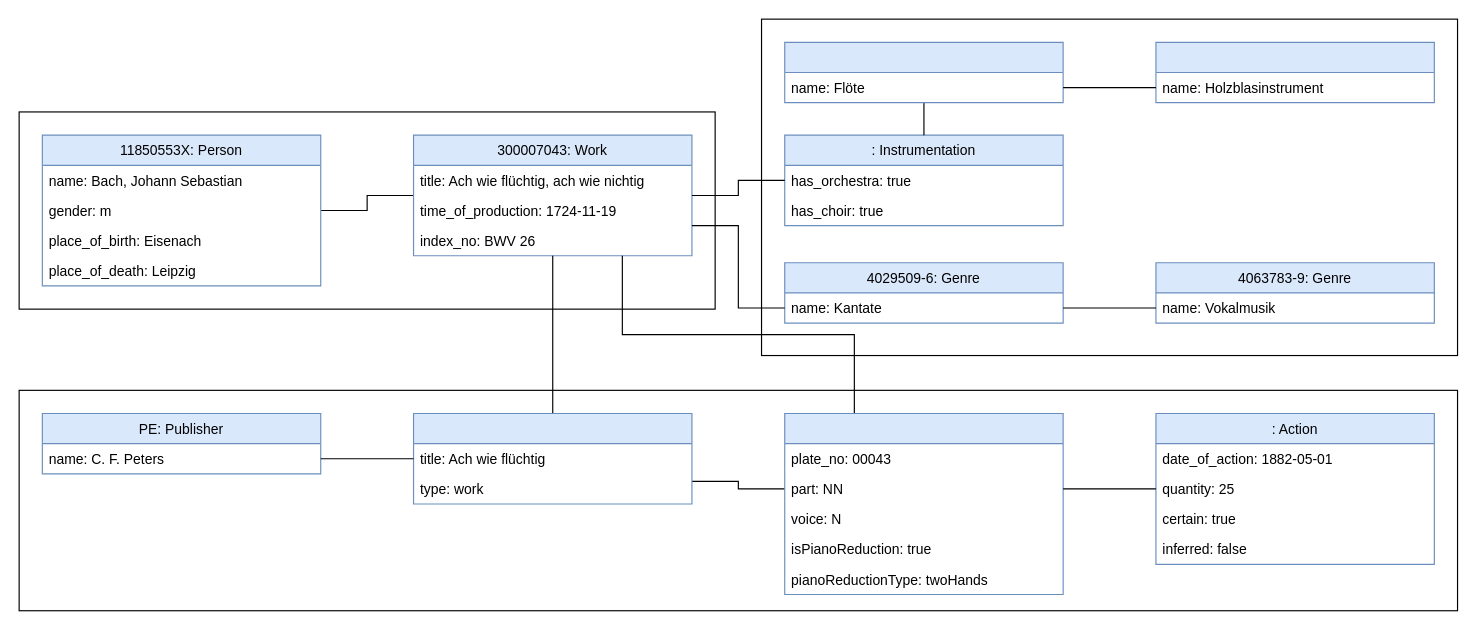
This 1477x630 diagram has some shape labels left out. Each missing label, with the box of its shape:
4131177-2: Instrument: (1155, 41, 1434, 103)
4154647-7: Instrument: (784, 41, 1063, 103)
PE_00043: PublishedItem: (412, 412, 692, 504)
PE_00043_00043_NN_N: PublishedItem: (784, 412, 1063, 594)
